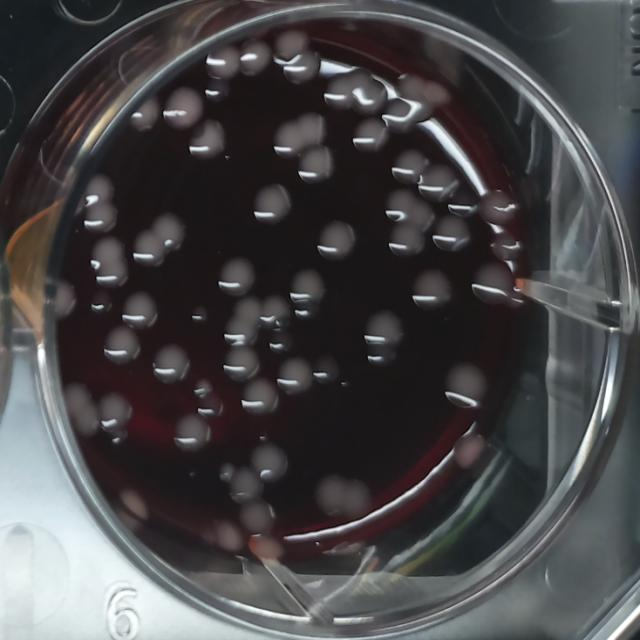Vibrio: (439, 356, 491, 414), (466, 256, 516, 310), (184, 116, 232, 164), (314, 216, 360, 266), (410, 266, 456, 315), (162, 83, 206, 134), (361, 304, 406, 351), (100, 323, 144, 370), (148, 339, 192, 386), (248, 440, 291, 488), (251, 181, 294, 228), (279, 47, 325, 90), (215, 254, 257, 301), (239, 374, 281, 420), (218, 344, 264, 386), (169, 412, 211, 457), (120, 286, 161, 332), (130, 228, 170, 274), (290, 108, 331, 152), (349, 116, 390, 159), (150, 209, 188, 255), (272, 23, 312, 66), (235, 37, 274, 80), (296, 144, 334, 188), (270, 119, 308, 163), (276, 354, 314, 397), (126, 94, 161, 138), (289, 264, 326, 305)
